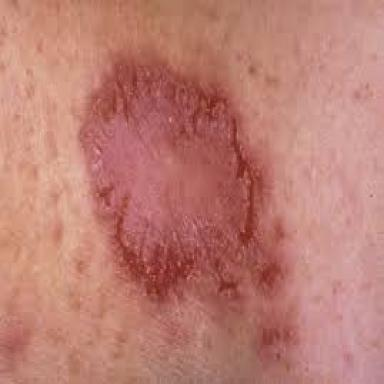Hailey-Hailey-Disease: (79, 63, 279, 296)
